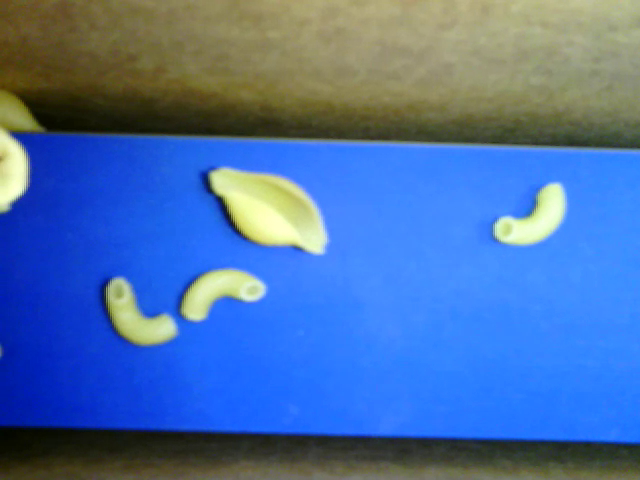elbow: (486, 178, 571, 249), (105, 270, 181, 345), (180, 262, 266, 321)
shell: (207, 163, 334, 257), (4, 91, 46, 130)
tortellini: (2, 130, 36, 214)
